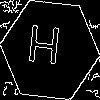H: (25, 25, 62, 74)
